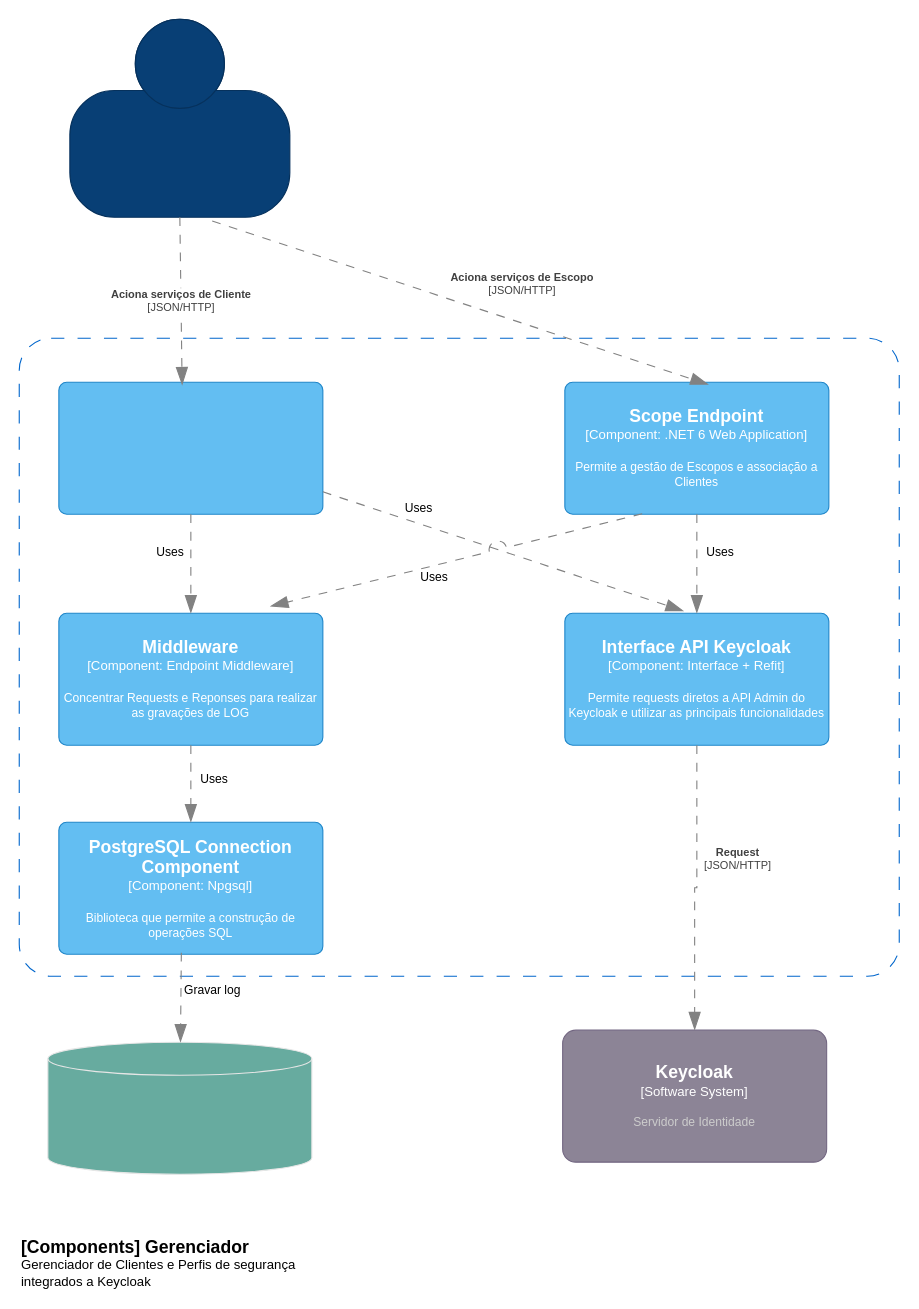
This 919x1309 diagram has some shape labels left out. Each missing label, with the centre of its shape:
Banco de Dados [Container: PostgreSQL] Servidor de Banco de Dados: point (179, 1107)
Client Endpoint [Component: .NET 6 Web Application] Permite a gestão de Clientes: point (190, 447)
Security Manager [Usuário] Mantem e Audita os mecanismos de segurança.: point (179, 117)
